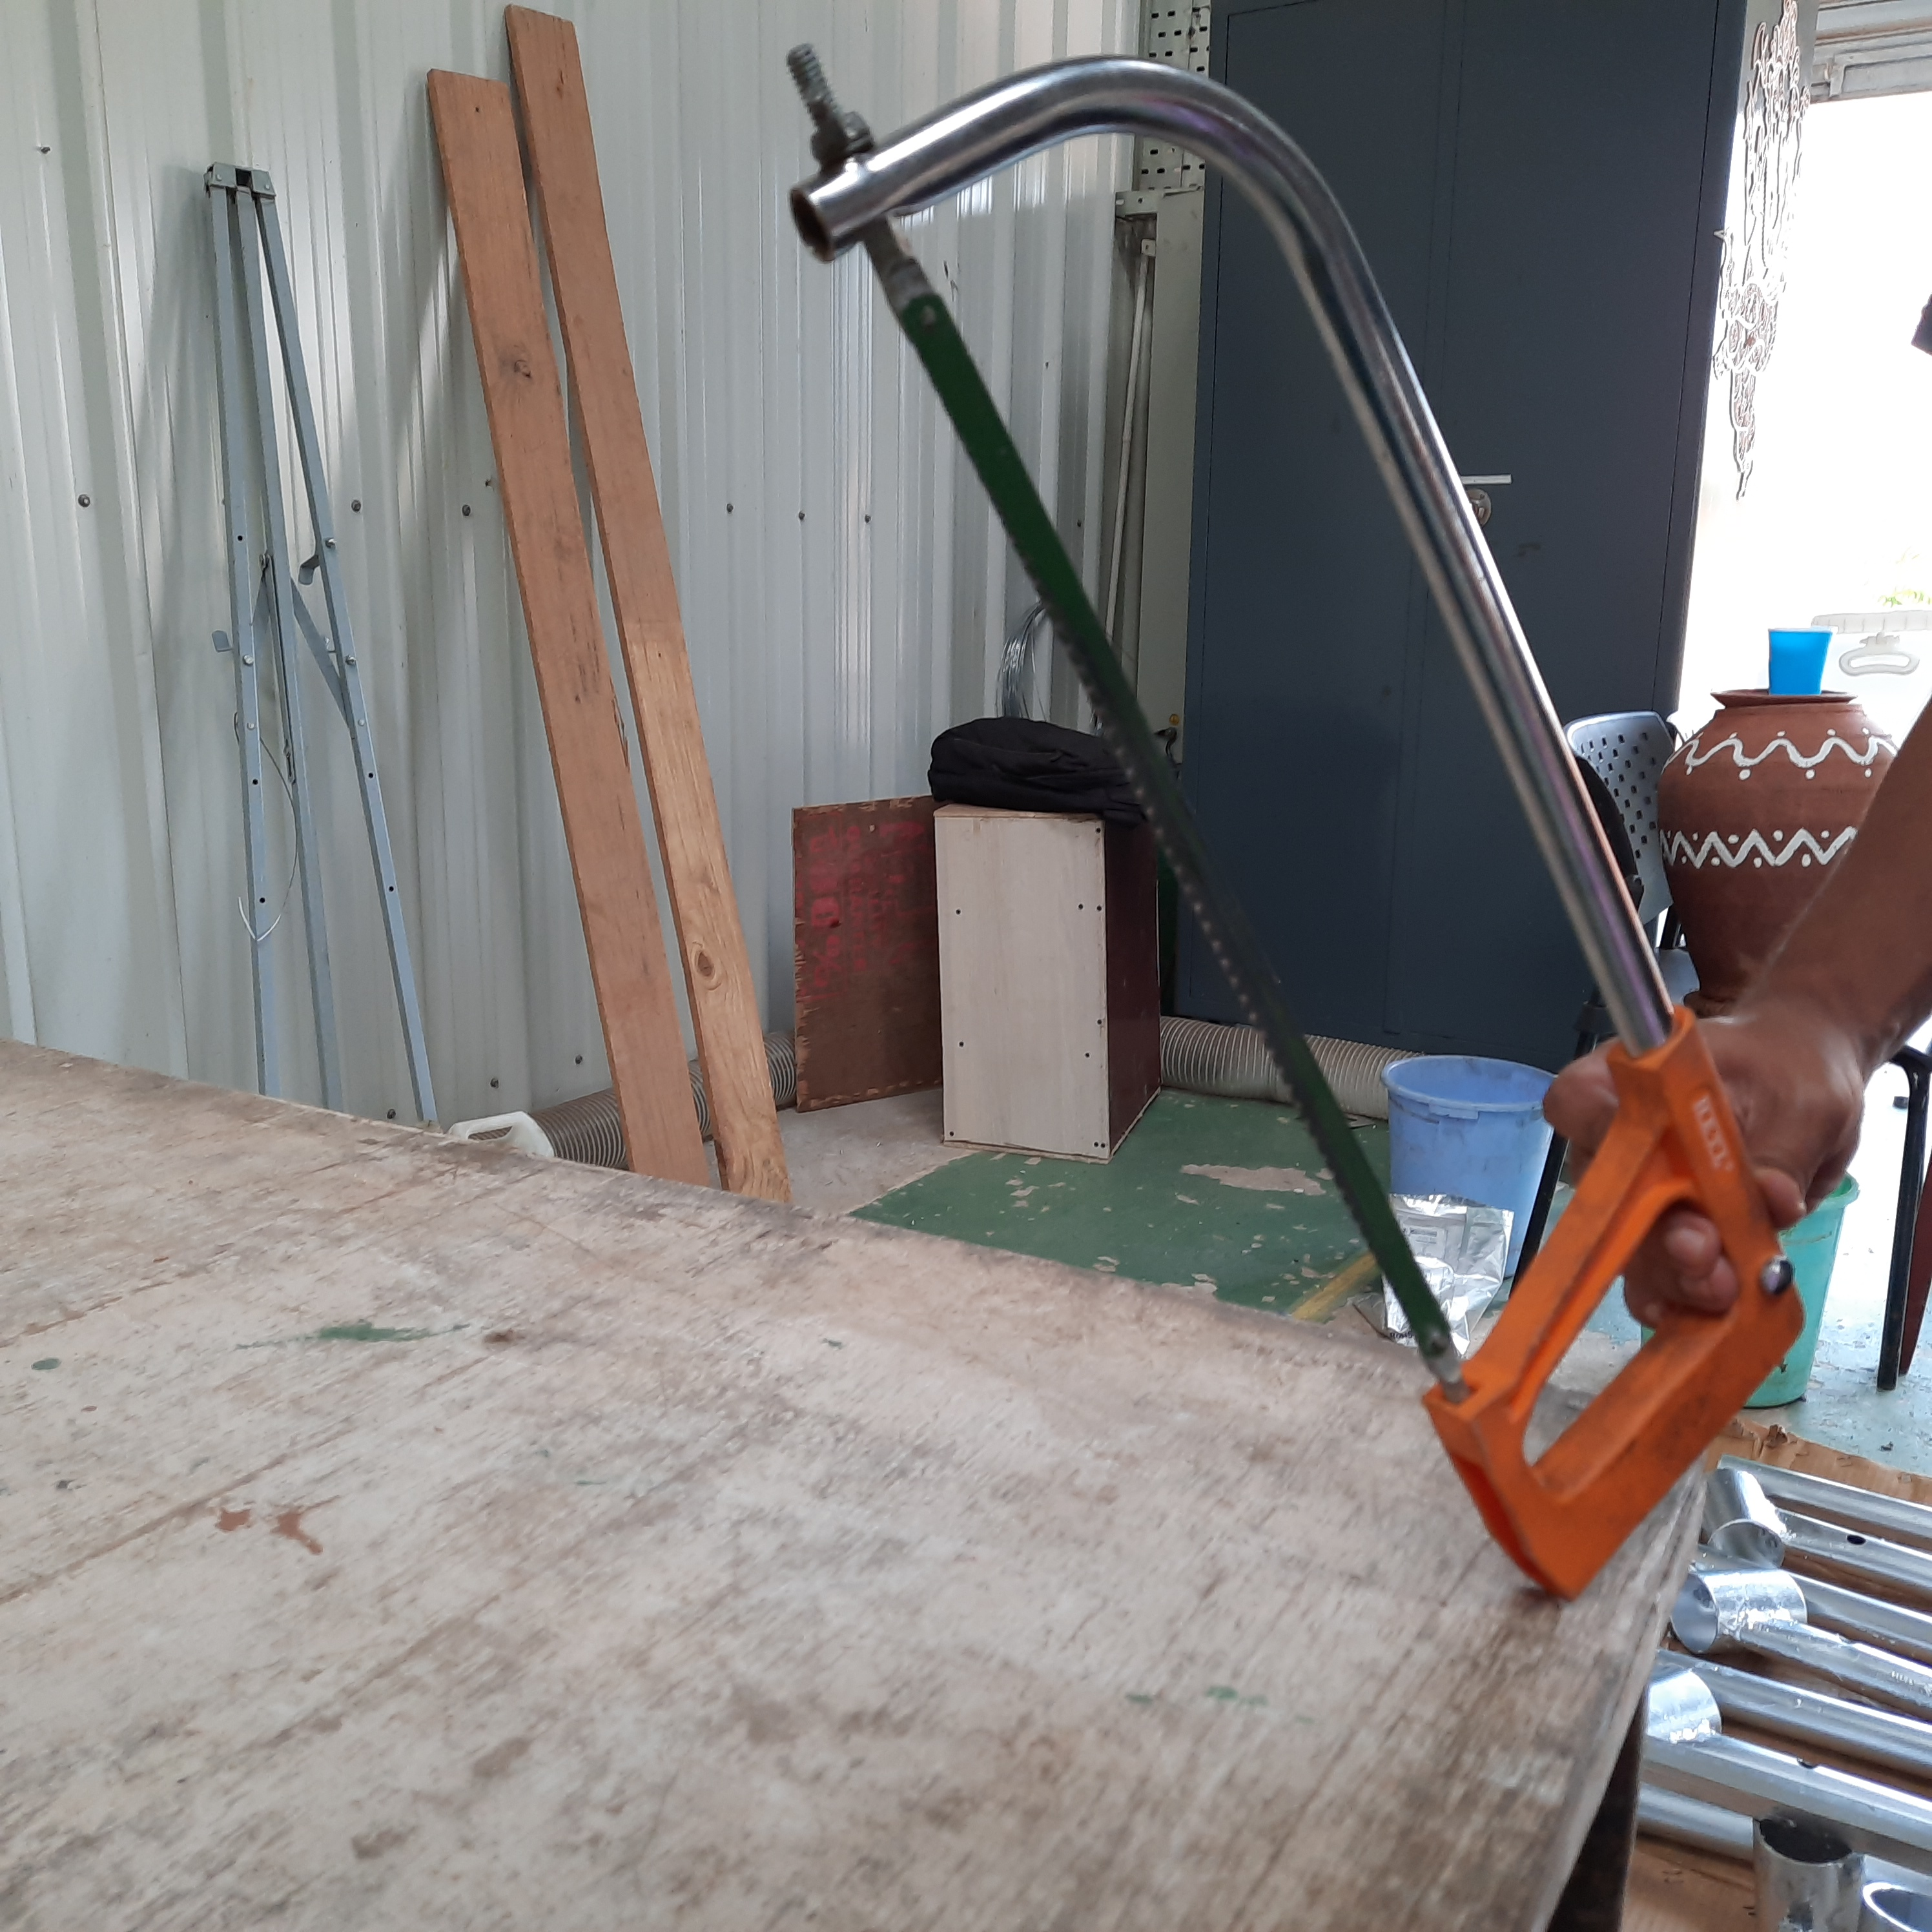Hexaframe: (773, 28, 1831, 1606)
